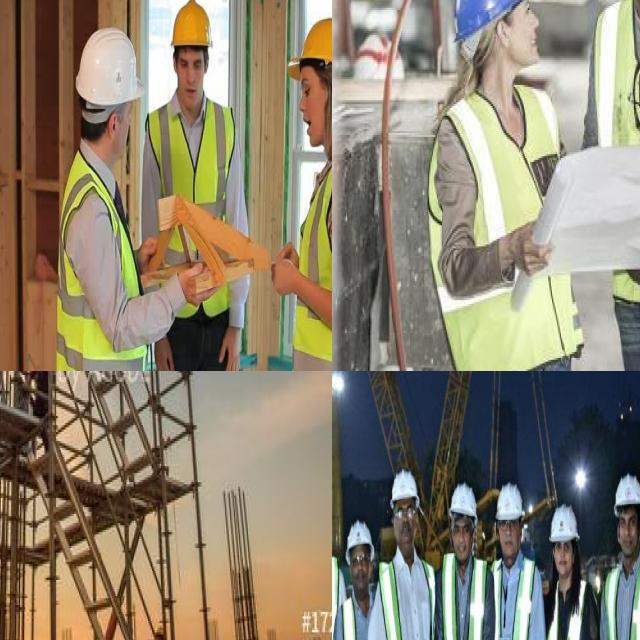No_Ear-Protection: (494, 19, 512, 51), (107, 111, 118, 140)
No_Glasses: (177, 53, 206, 73), (517, 0, 538, 27), (298, 77, 320, 102)
face_nomask: (502, 0, 544, 77), (297, 66, 332, 144), (178, 46, 211, 109), (394, 497, 418, 556), (615, 511, 639, 562), (498, 513, 520, 565), (350, 545, 370, 593), (454, 519, 472, 561), (553, 538, 575, 570)
hand_noglove: (516, 219, 555, 285), (174, 258, 214, 314), (271, 240, 303, 301), (215, 332, 245, 371), (150, 331, 177, 371), (134, 232, 158, 275)
head_helmet: (74, 27, 148, 103), (452, 0, 541, 36), (288, 16, 332, 88), (168, 0, 212, 49), (496, 488, 524, 524), (549, 505, 577, 541), (390, 470, 419, 504), (614, 475, 640, 511), (347, 518, 373, 554), (447, 484, 477, 515)
person: (420, 0, 591, 371), (147, 0, 249, 371), (55, 28, 145, 371), (572, 0, 640, 371), (287, 23, 332, 371), (378, 470, 435, 640), (431, 480, 490, 640), (486, 485, 545, 640), (539, 500, 595, 640), (600, 477, 640, 640), (337, 518, 381, 640)
vest: (434, 83, 578, 364), (153, 95, 240, 324), (59, 151, 145, 371), (598, 0, 640, 285), (291, 157, 332, 371), (438, 556, 489, 640), (384, 558, 434, 640), (543, 574, 593, 640), (493, 562, 535, 640), (605, 558, 640, 640), (344, 594, 381, 640)
